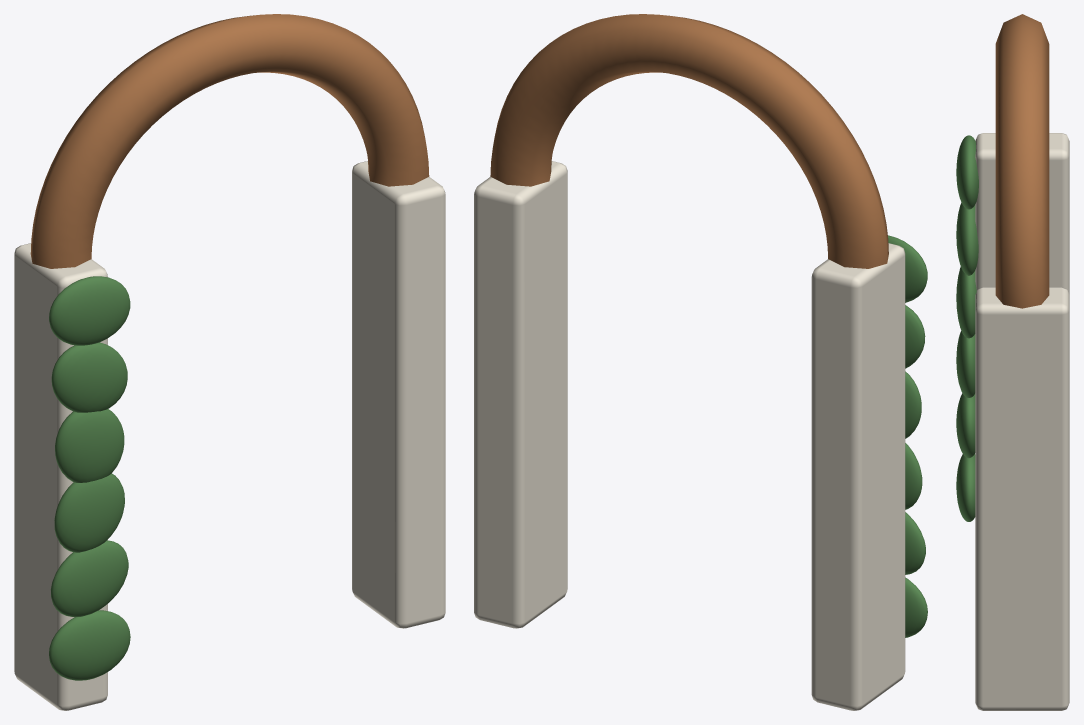
Rendered from wp-arche-de-jardin.glb.
The picture shows the model from 3 angles, left to right: view 1: azimuth 30°, elevation 25°; view 2: azimuth 150°, elevation 25°; view 3: azimuth 270°, elevation 25°; orthographic projection. The views are drawn at different scales.
Visible parts, largest first — view 1: wp-arche-de-jardin; view 2: wp-arche-de-jardin; view 3: wp-arche-de-jardin.
Part boxes in pixels (x1,y1,x2,y2): wp-arche-de-jardin: (14, 14, 445, 710); wp-arche-de-jardin: (474, 14, 927, 710); wp-arche-de-jardin: (956, 14, 1069, 710).
Bounding box in the file's own units: 1.55 × 2.3 × 0.4.
